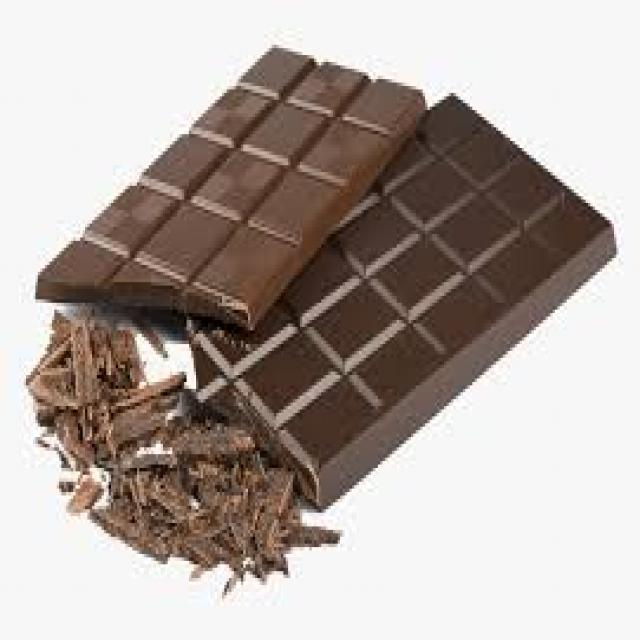Chocolate: (190, 92, 619, 513), (35, 42, 428, 336)
